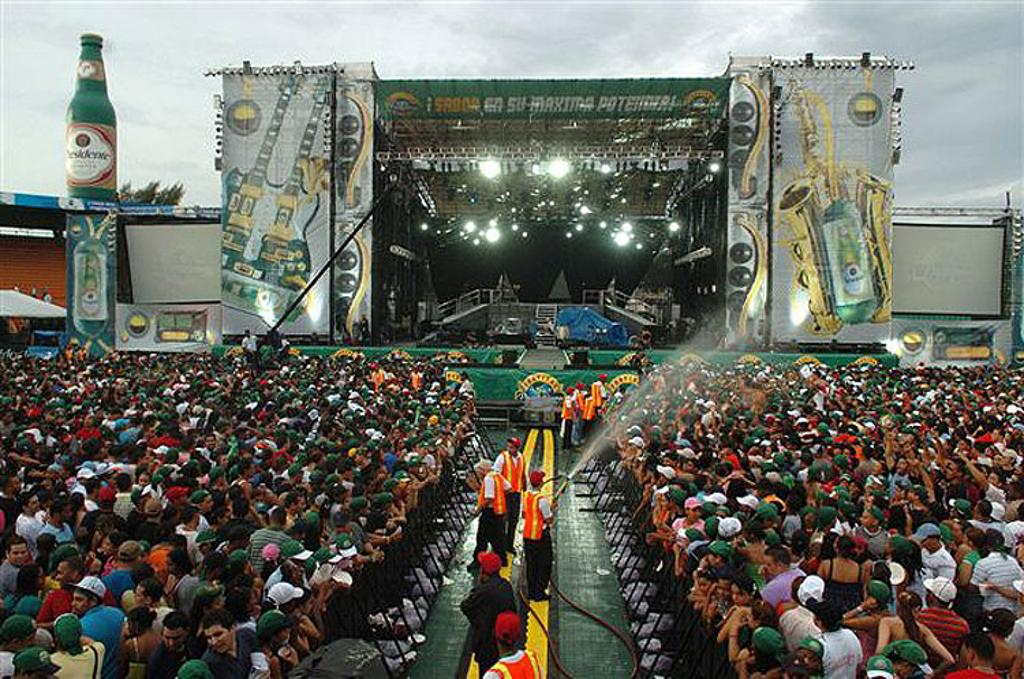face: (204, 627, 230, 655), (163, 629, 186, 653), (10, 545, 28, 568), (57, 564, 74, 587), (72, 591, 88, 615), (960, 644, 975, 668), (765, 557, 781, 579), (799, 650, 815, 671), (900, 659, 916, 679), (153, 566, 169, 585), (732, 585, 747, 605), (765, 557, 779, 577), (926, 589, 939, 610), (210, 597, 224, 616), (278, 624, 291, 644), (21, 633, 34, 653), (135, 589, 149, 607), (718, 582, 731, 601), (793, 536, 808, 552), (248, 585, 261, 602), (747, 609, 758, 629), (27, 670, 51, 679), (201, 496, 214, 512), (141, 494, 154, 510), (28, 496, 41, 512), (35, 567, 44, 590), (105, 539, 117, 556), (961, 535, 971, 555), (336, 524, 350, 538), (193, 432, 207, 446), (134, 551, 147, 566), (47, 409, 59, 425), (861, 512, 873, 528), (236, 537, 250, 550), (200, 542, 212, 557), (952, 524, 962, 542), (244, 559, 253, 579), (301, 597, 312, 613), (308, 447, 320, 461), (65, 479, 76, 494), (690, 508, 701, 523), (264, 560, 274, 576), (150, 425, 162, 438), (922, 538, 935, 550), (40, 482, 52, 495), (168, 558, 177, 575), (128, 619, 137, 636), (296, 498, 306, 513), (11, 477, 21, 492), (700, 552, 710, 567), (355, 452, 367, 464), (55, 449, 64, 465), (663, 459, 674, 472), (716, 512, 727, 525), (988, 475, 998, 489), (222, 513, 231, 528), (220, 455, 229, 470), (57, 508, 66, 523), (140, 476, 151, 488), (110, 475, 120, 488), (897, 460, 907, 473), (630, 445, 640, 458), (661, 495, 669, 511), (9, 479, 17, 495), (192, 513, 201, 527), (865, 496, 874, 510), (896, 487, 905, 501), (256, 484, 265, 498), (47, 470, 57, 482), (699, 580, 708, 593), (338, 426, 347, 439), (369, 481, 378, 494), (257, 515, 266, 528), (290, 505, 299, 518), (345, 498, 354, 511), (975, 504, 984, 517), (207, 437, 216, 450), (64, 507, 72, 521), (84, 478, 94, 489), (24, 450, 33, 462), (908, 490, 917, 502), (207, 437, 216, 449), (246, 465, 255, 477), (685, 461, 694, 473), (84, 415, 93, 427), (384, 503, 394, 513), (178, 494, 187, 505), (480, 465, 487, 479), (158, 452, 166, 464), (28, 472, 41, 479), (377, 476, 386, 486), (112, 414, 121, 424), (104, 411, 112, 422), (393, 485, 401, 496), (873, 464, 881, 475), (1003, 455, 1011, 466), (5, 413, 13, 424), (296, 471, 303, 483), (249, 465, 256, 477), (420, 446, 428, 456), (345, 472, 353, 482), (765, 448, 772, 459), (507, 443, 514, 454), (961, 442, 968, 453), (393, 430, 401, 439), (278, 481, 285, 491), (706, 480, 713, 490), (843, 450, 850, 460), (331, 430, 337, 441), (35, 451, 41, 462), (401, 483, 408, 492), (263, 453, 270, 462), (398, 441, 405, 449), (413, 466, 419, 475), (245, 431, 251, 440)
